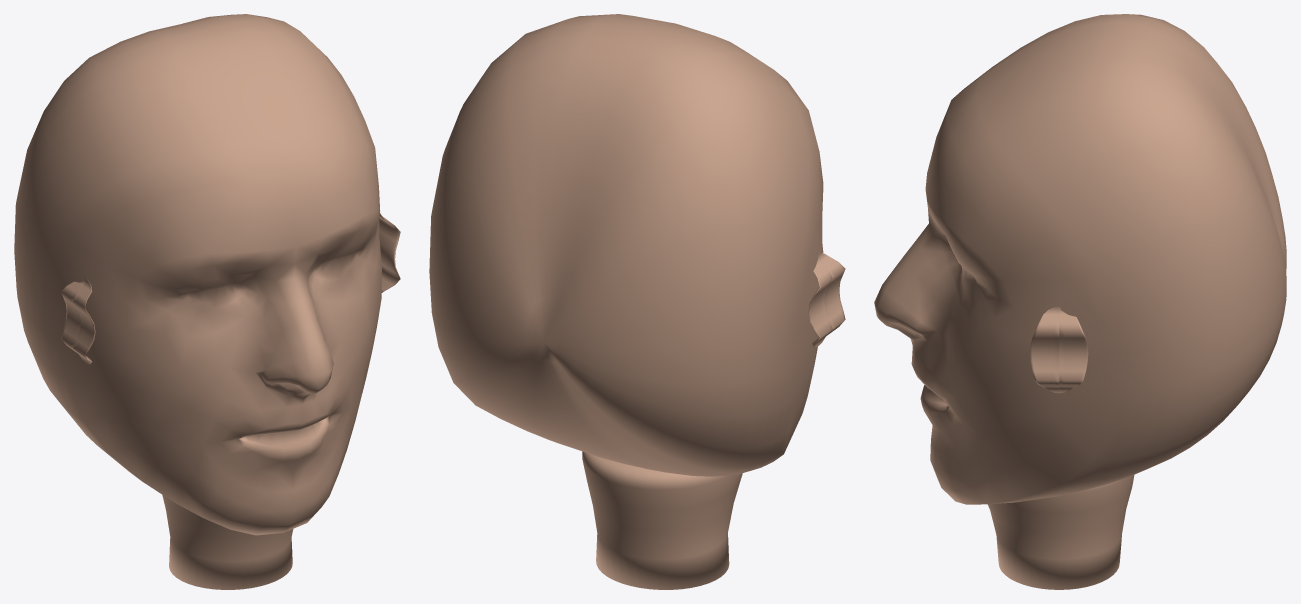
Rendered from head-neutral.glb.
3 views of the same model, side by side, from view 1: azimuth 30°, elevation 25°; view 2: azimuth 150°, elevation 25°; view 3: azimuth 270°, elevation 25° (orthographic). The views are drawn at different scales.
Parts seen in each view (by area): view 1: headAsset; view 2: headAsset; view 3: headAsset.
Part boxes in pixels (box(x1,y1,x2,y2)): headAsset: box(14, 14, 400, 589); headAsset: box(429, 14, 845, 589); headAsset: box(874, 14, 1286, 589).
Bounding box in the file's own units: 0.1599 × 0.2483 × 0.177.
